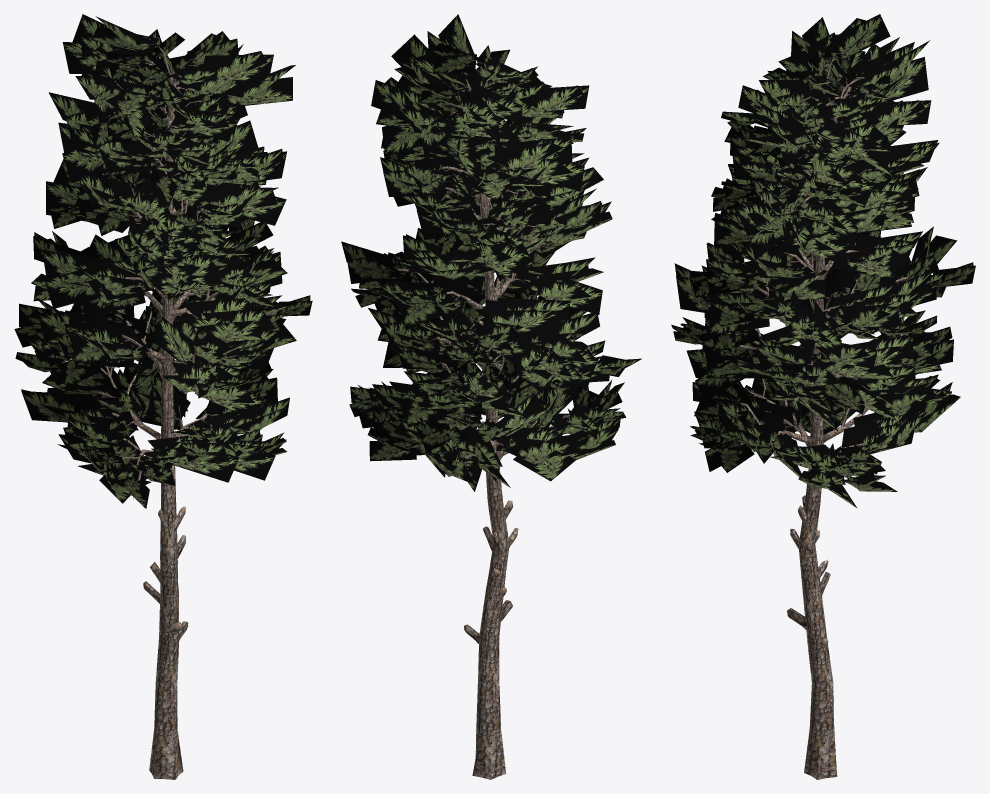
File: conifer.dae
3 views of the same model, side by side, from view 1: azimuth 30°, elevation 25°; view 2: azimuth 150°, elevation 25°; view 3: azimuth 270°, elevation 25° (orthographic).
Visible parts, largest first — view 1: Conifer_Desktop; view 2: Conifer_Desktop; view 3: Conifer_Desktop.
Part boxes in pixels (<box>): Conifer_Desktop: <box>14,14,312,779</box>; Conifer_Desktop: <box>341,14,641,779</box>; Conifer_Desktop: <box>671,14,975,779</box>.
Bounding box in the file's own units: 37.77 × 36.77 × 98.25.
3 materials, 3 textured.
